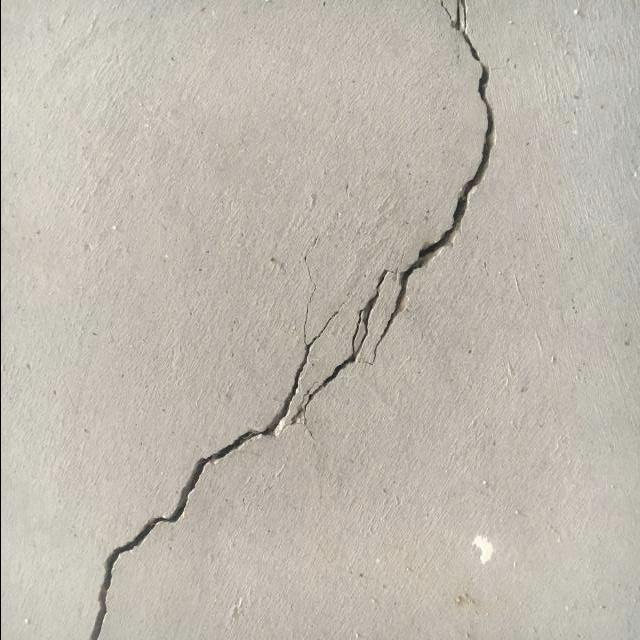SurfaceCrack: (3, 0, 538, 639)
